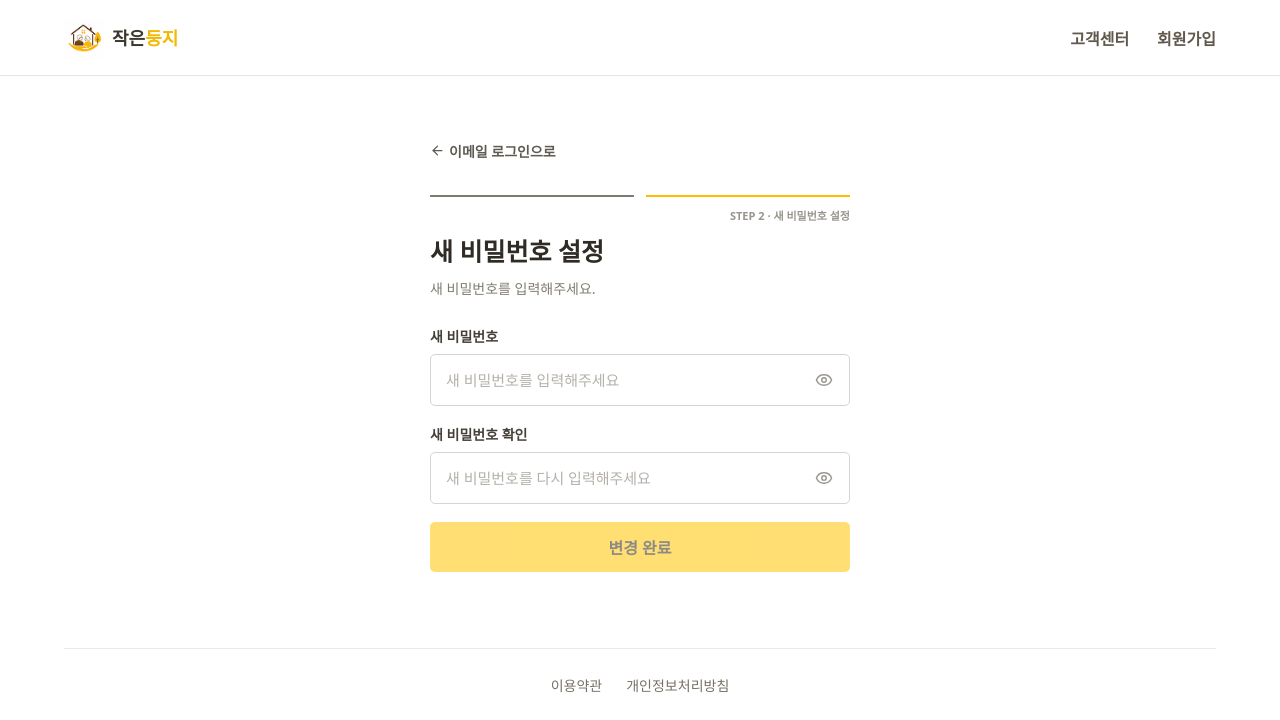
PasswordResetCompleteView › completes the reset once and shows the completion screen
The width and height of the screenshot is (1280, 720).
Type "NewSenior!23" into the password field named "password". click: (640, 380)
box: [430,354,850,406]
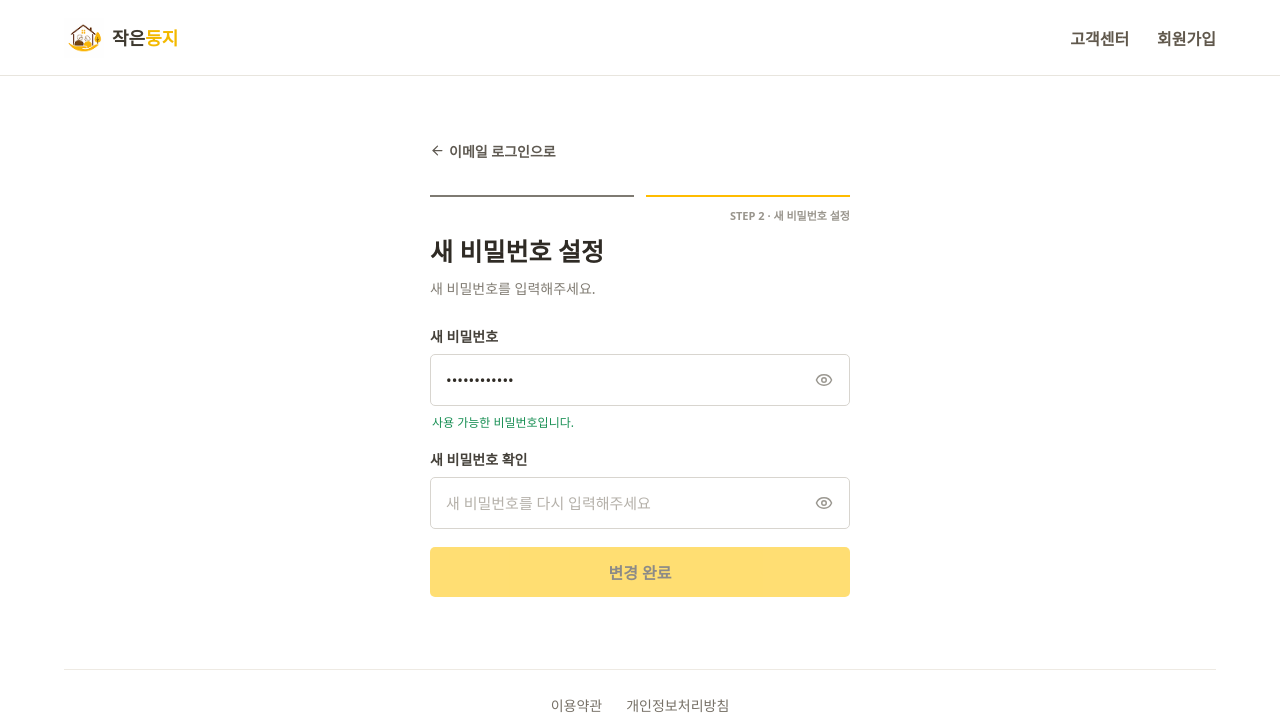
Type "NewSenior!23" into the password field named "passwordConfirm". click: (640, 503)
box: [430,477,850,529]
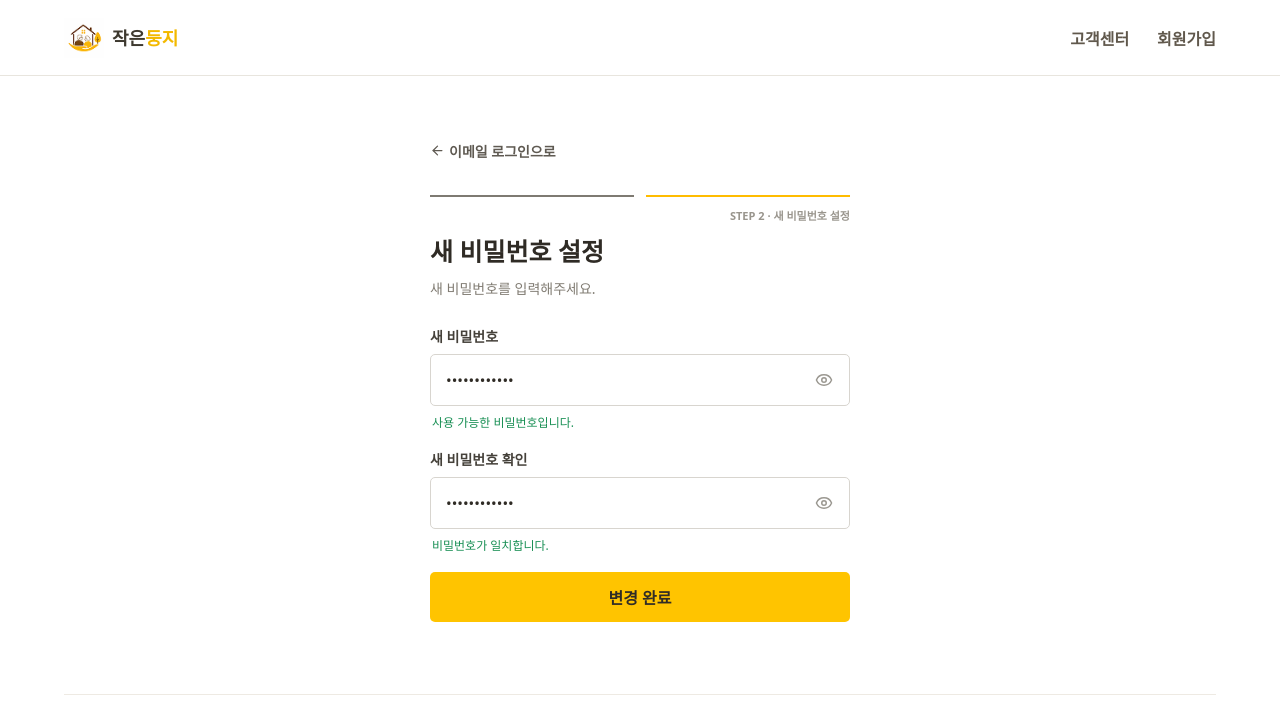
Submit the form, box [430,326,850,622]
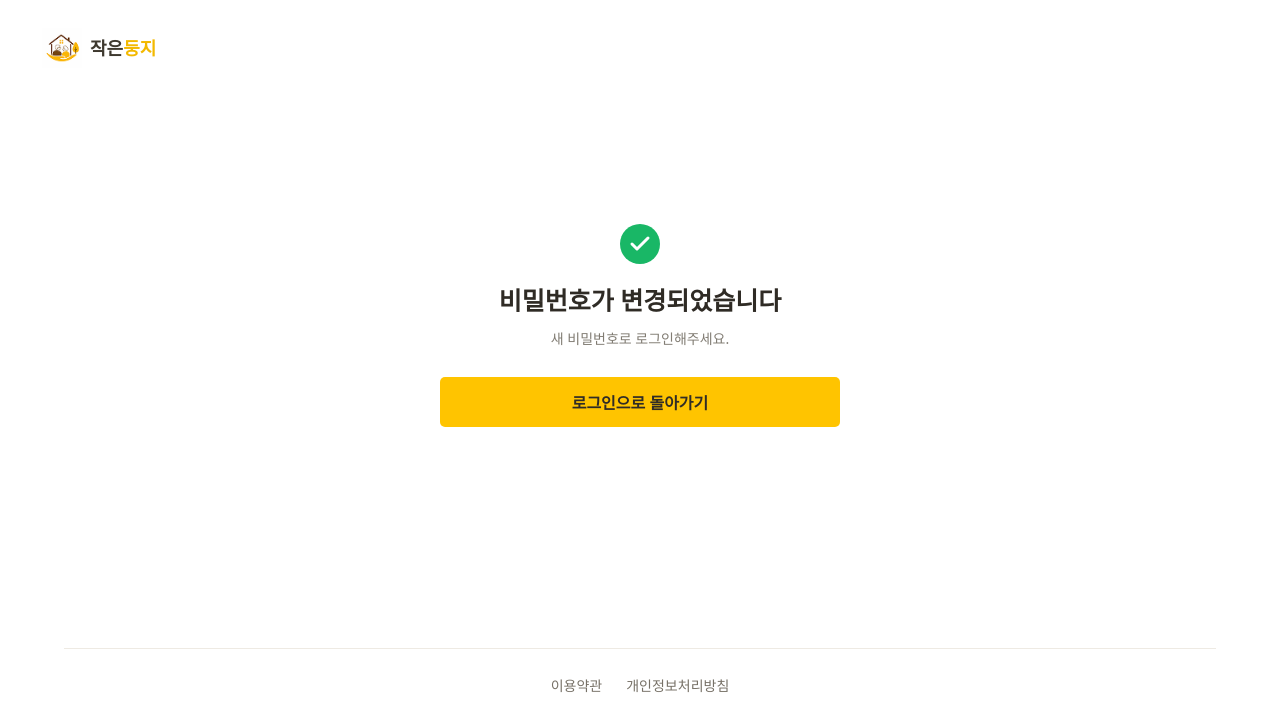
Check: the text "비밀번호가 변경되었습니다" is shown, box [499,284,781,318]
Check: the text "새 비밀번호로 로그인해주세요." is shown, box [551,328,729,349]
